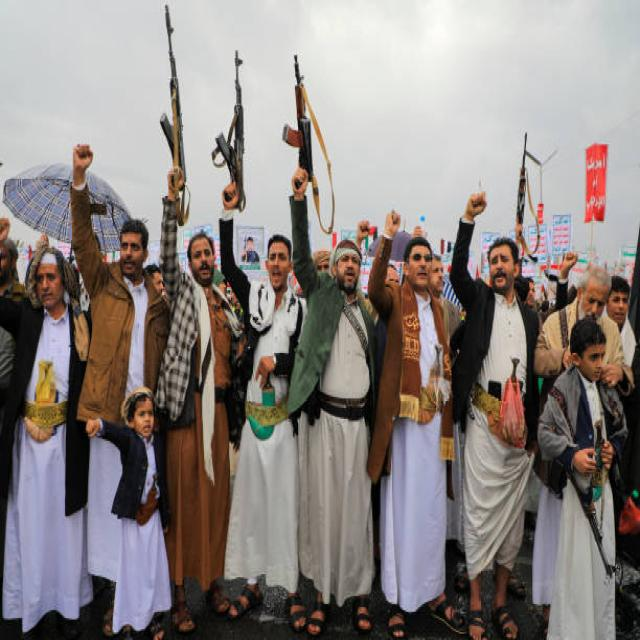civilian: (450, 191, 538, 638), (368, 212, 454, 637), (0, 245, 91, 638), (70, 144, 166, 424), (86, 386, 169, 638), (533, 264, 623, 411), (87, 439, 120, 634), (532, 455, 559, 638), (605, 275, 635, 364), (0, 238, 23, 298)
terrorist: (283, 55, 378, 635), (211, 50, 304, 629), (156, 5, 235, 632), (540, 318, 624, 638)
